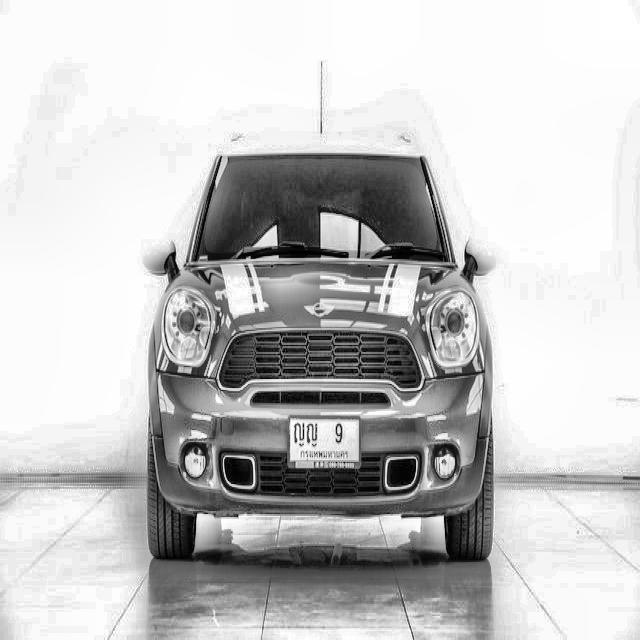license-plate: (286, 408, 365, 483)
